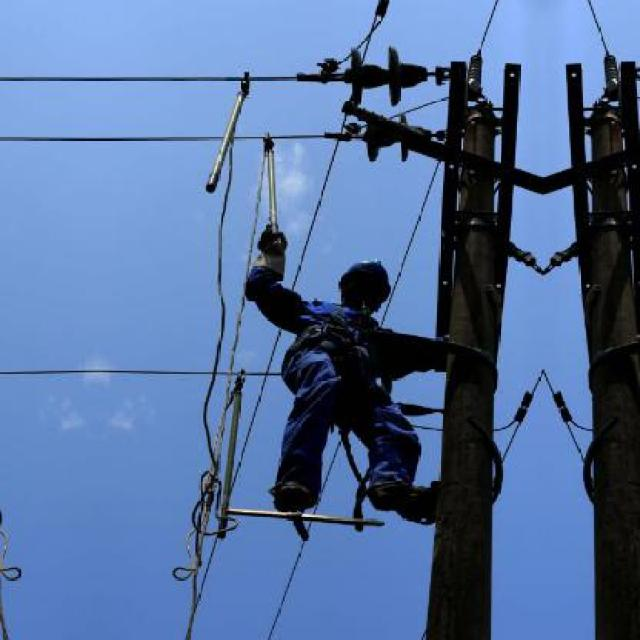helmet: (332, 260, 385, 306)
